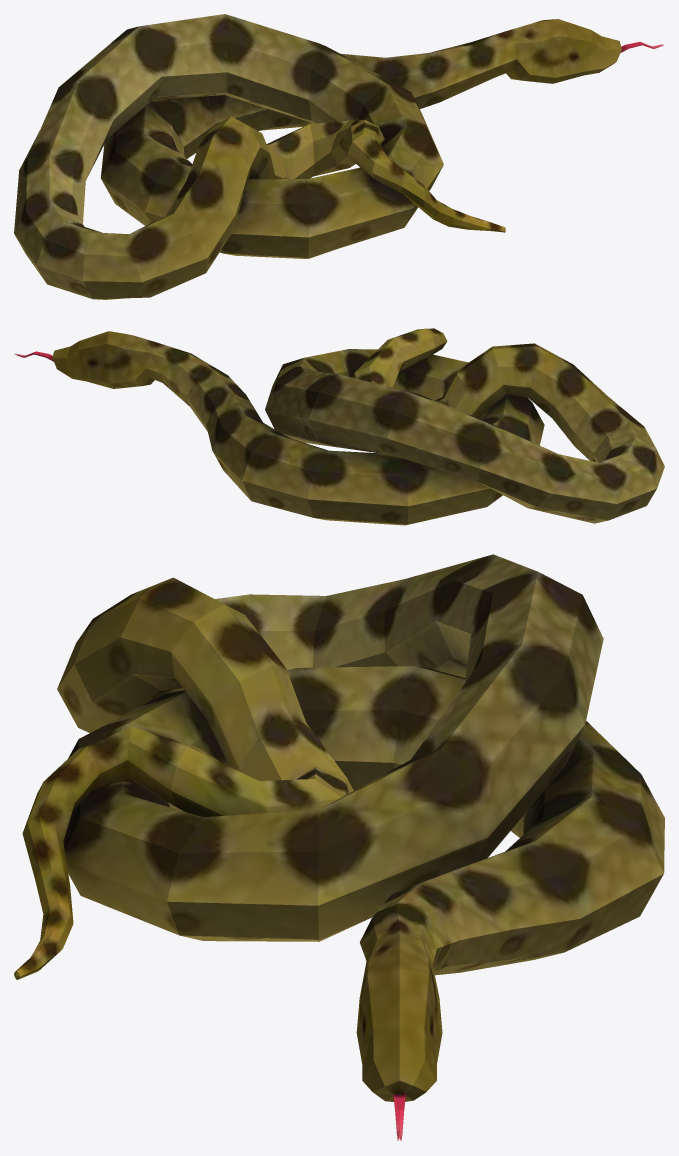
Rendered from anaconda.glb.
3 views of the same model, one above another, from view 1: azimuth 30°, elevation 25°; view 2: azimuth 150°, elevation 25°; view 3: azimuth 270°, elevation 25° (orthographic). The views are drawn at different scales.
Visible parts, largest first — view 1: Anaconda_mesh; view 2: Anaconda_mesh; view 3: Anaconda_mesh.
Part boxes in pixels (bbox=[...]): Anaconda_mesh: bbox=[14, 14, 663, 299]; Anaconda_mesh: bbox=[14, 328, 664, 525]; Anaconda_mesh: bbox=[14, 554, 664, 1140].
Size of the model in its own units: 19.65 by 4.45 by 9.84.
Materials: 1 (1 with a texture image).
